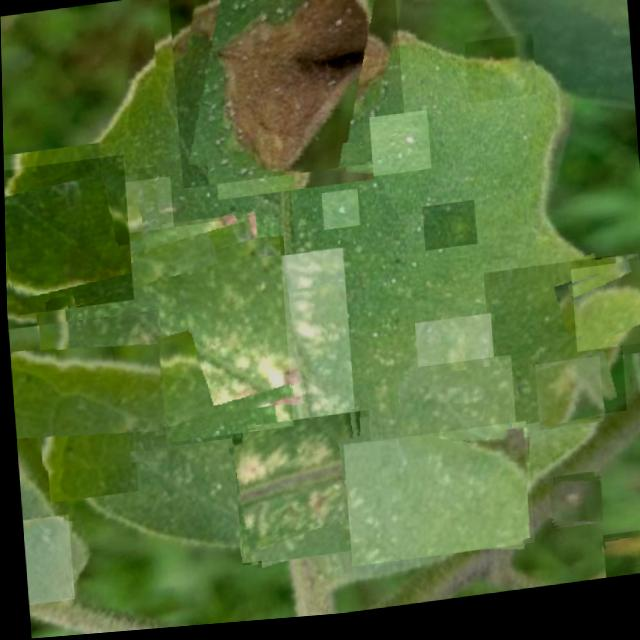leaf_spot: (62, 217, 291, 457), (167, 0, 406, 192), (219, 253, 355, 475), (340, 430, 531, 573), (6, 312, 165, 479), (481, 266, 624, 438), (229, 416, 376, 570), (3, 156, 132, 316), (390, 363, 515, 471), (412, 321, 494, 406), (568, 270, 640, 362), (95, 179, 174, 261), (532, 366, 601, 439), (463, 43, 535, 111), (20, 515, 71, 605), (368, 117, 430, 183), (545, 481, 599, 538), (420, 208, 474, 258), (599, 539, 640, 588), (319, 194, 358, 236)
